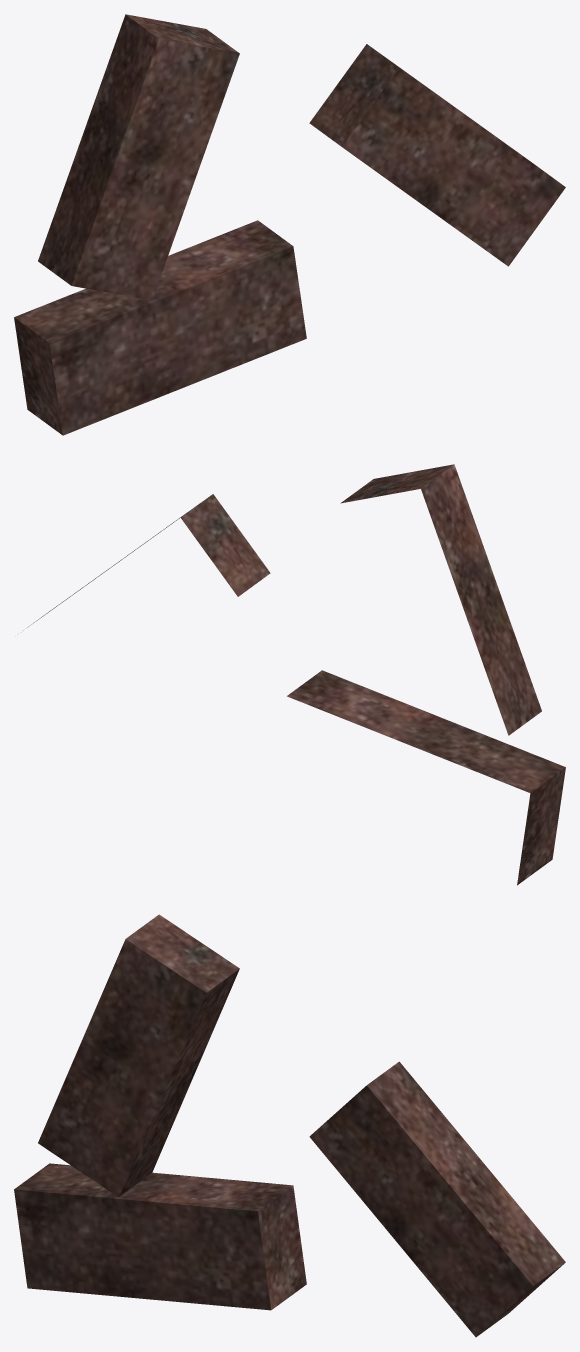
File: prop_redbrick_debris_02.glb
3 views of the same model, one above another, from view 1: azimuth 30°, elevation 25°; view 2: azimuth 150°, elevation 25°; view 3: azimuth 330°, elevation 25° (orthographic).
Size of the model in its own units: 30.34 by 20.85 by 3.61.
Materials: 1 (1 with a texture image).
